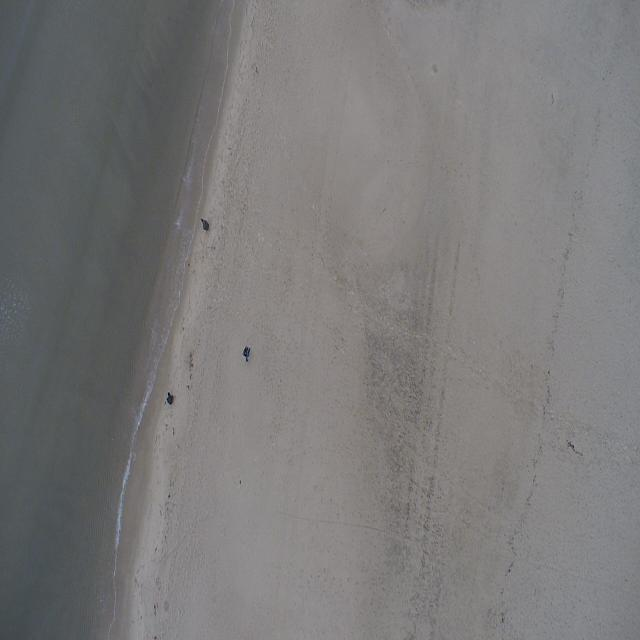p3rson: (242, 347, 250, 362), (201, 219, 209, 231), (167, 392, 173, 405)
